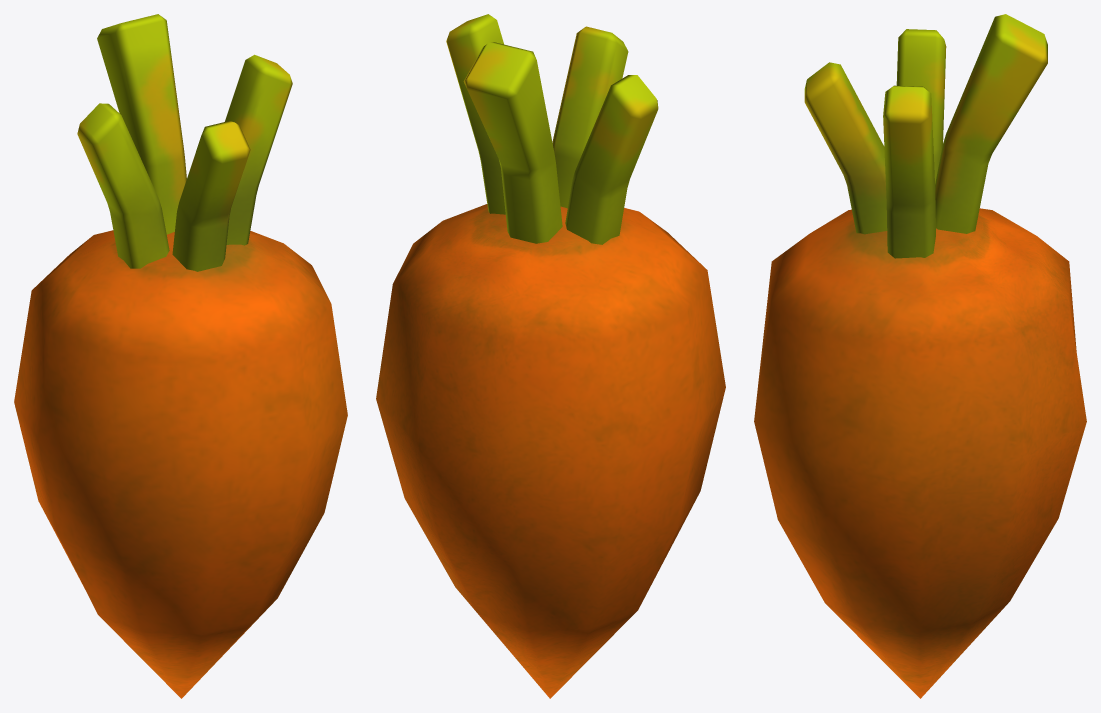
Rendered from Carrot.fbx.
The picture shows the model from 3 angles, left to right: view 1: azimuth 30°, elevation 25°; view 2: azimuth 150°, elevation 25°; view 3: azimuth 270°, elevation 25°; orthographic projection. The views are drawn at different scales.
Parts seen in each view (by area): view 1: Carrot; view 2: Carrot; view 3: Carrot.
Boxes of the visible parts, x1,y1,x2,y2 form: Carrot: [14, 14, 347, 698]; Carrot: [376, 14, 725, 698]; Carrot: [754, 14, 1086, 698].
Bounding box in the file's own units: 1.35 × 2.93 × 1.31.
